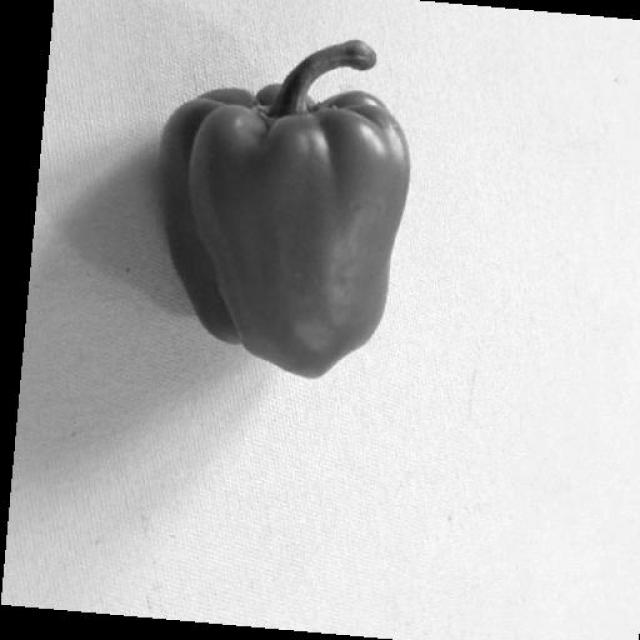Fresh_Capsicum: (142, 38, 428, 378)
